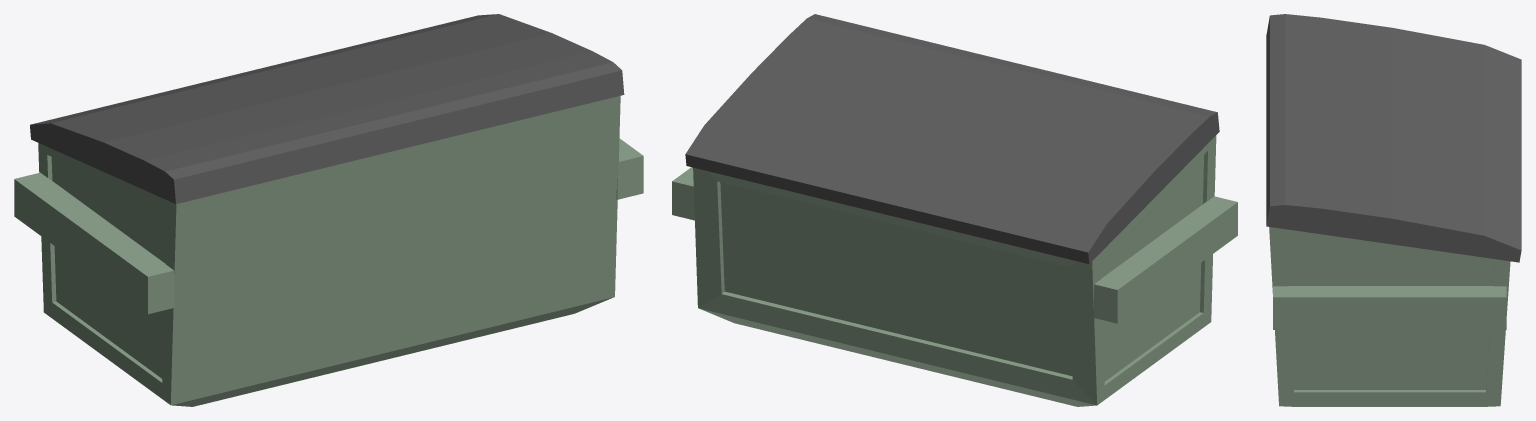
Rendered from Dumpster.fbx.
The picture shows the model from 3 angles, left to right: view 1: azimuth 30°, elevation 25°; view 2: azimuth 150°, elevation 25°; view 3: azimuth 270°, elevation 25°; orthographic projection. The views are drawn at different scales.
Visible parts, largest first — view 1: polySurface3, polySurface1, polySurface2, polySurface4; view 2: polySurface1, polySurface3, polySurface2, polySurface4; view 3: polySurface1, polySurface3, polySurface4.
Part boxes in pixels (left/top/right/bottom): polySurface3: left=38, top=96, right=620, bottom=406; polySurface1: left=30, top=14, right=624, bottom=203; polySurface2: left=14, top=172, right=174, bottom=314; polySurface4: left=616, top=138, right=643, bottom=199; polySurface1: left=685, top=14, right=1219, bottom=264; polySurface3: left=693, top=135, right=1216, bottom=406; polySurface2: left=1093, top=196, right=1237, bottom=323; polySurface4: left=672, top=167, right=695, bottom=220; polySurface1: left=1266, top=14, right=1521, bottom=262; polySurface3: left=1269, top=227, right=1510, bottom=406; polySurface4: left=1273, top=286, right=1506, bottom=329.
Bounding box in the file's own units: 4.54 × 2.17 × 2.32.
